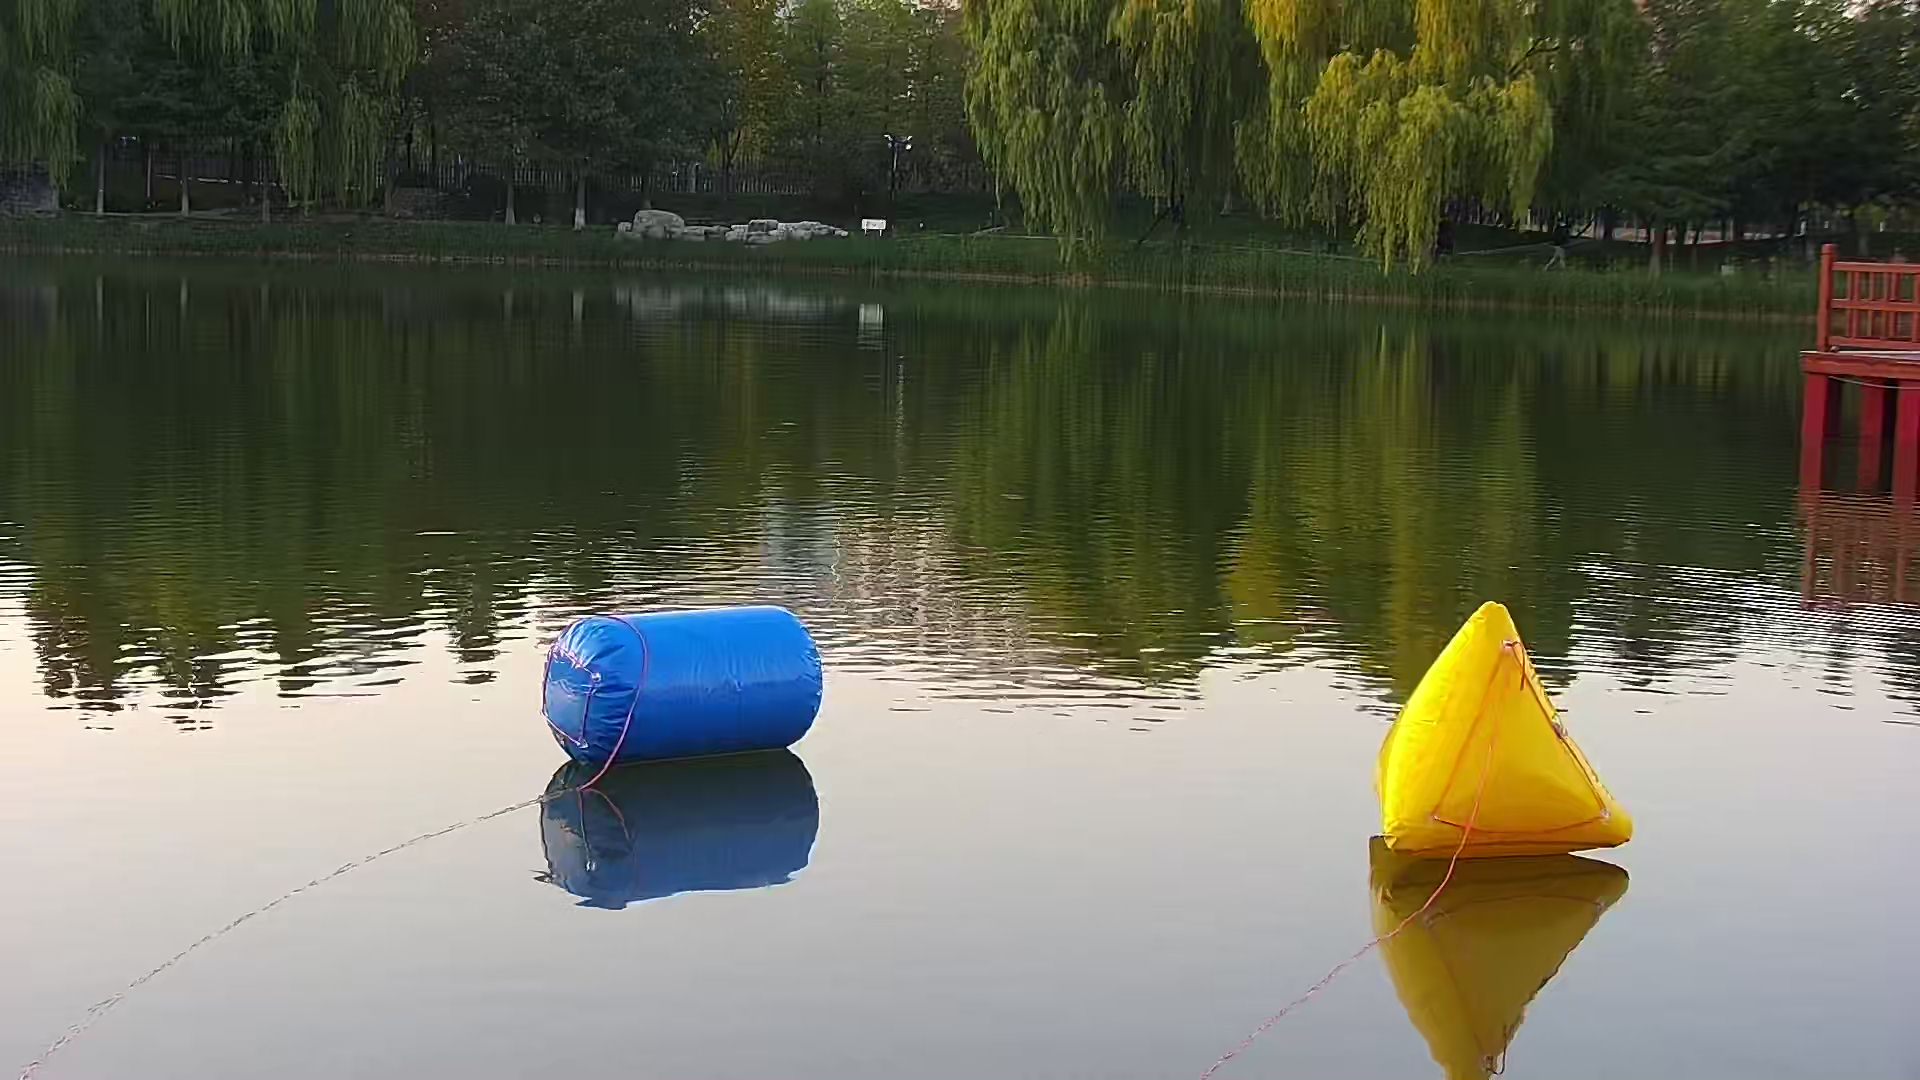rubbish: (1342, 596, 1642, 873), (543, 607, 823, 767)
